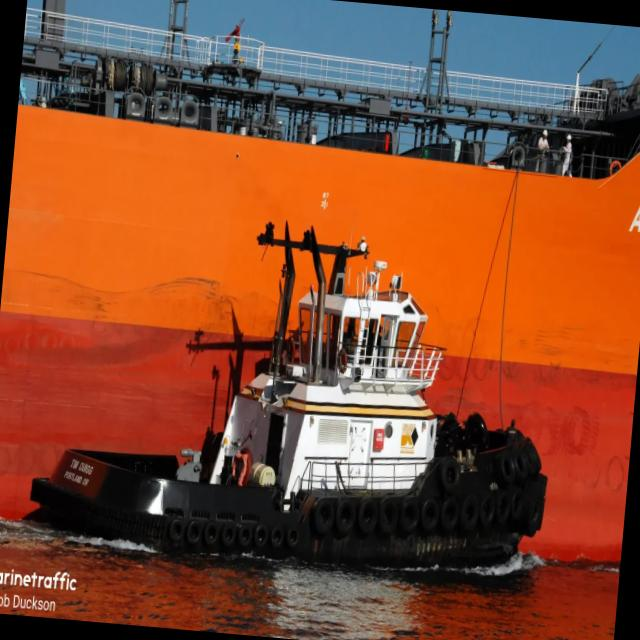Tug: (30, 222, 547, 567)
